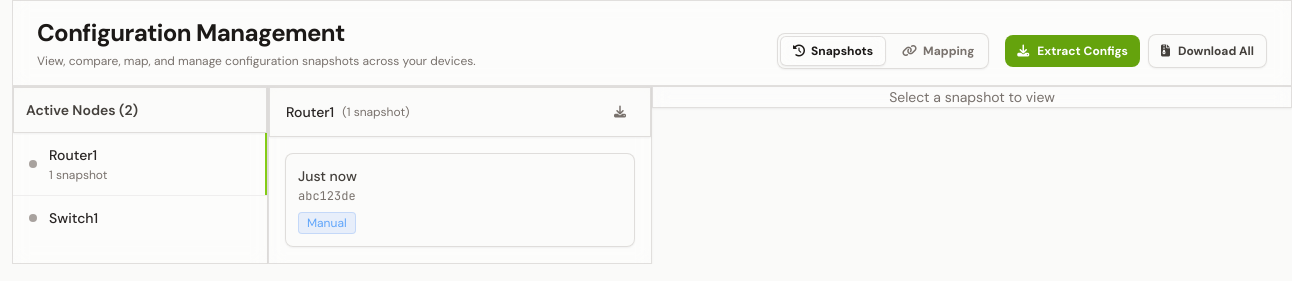
it: ConfigsView › Snapshot selection and viewing › shows snapshot content when a snapshot is selected
// Click on the node (use getAllByText since SnapshotList header also shows name)
Click the text "Router1": (73, 155) [49,146,97,164]
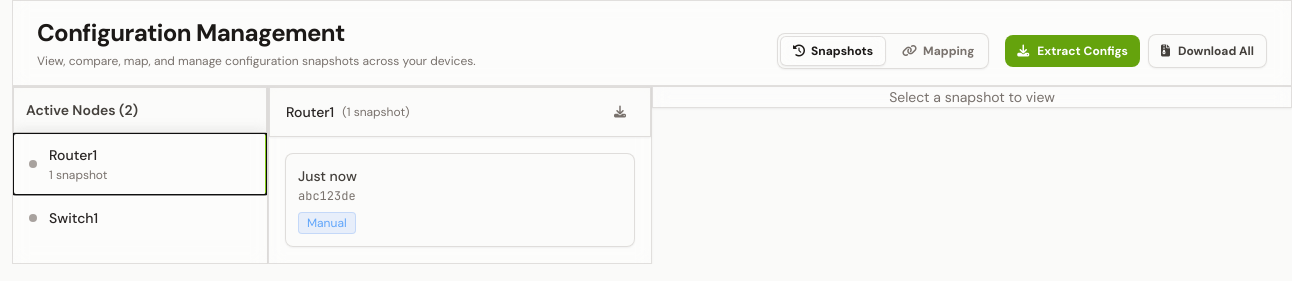
Click the element showing "Just now abc123de Manual": (460, 200) [285,153,635,247]
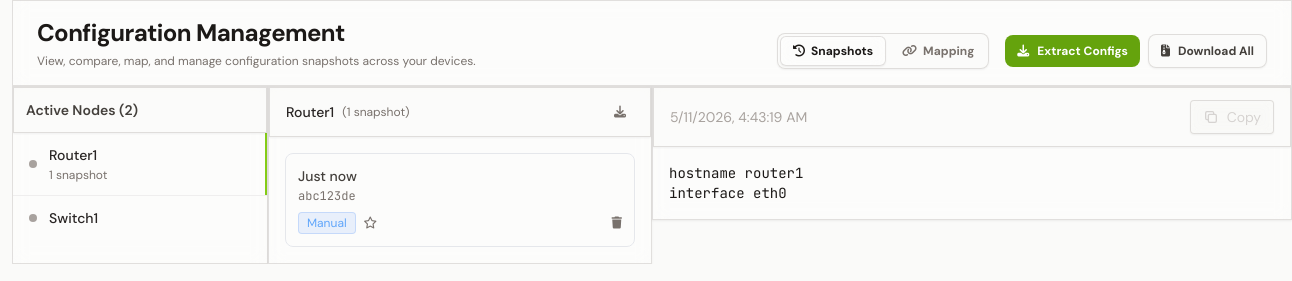
Now the text "hostname router1 interface eth0" is shown, box [669,164,803,202]
